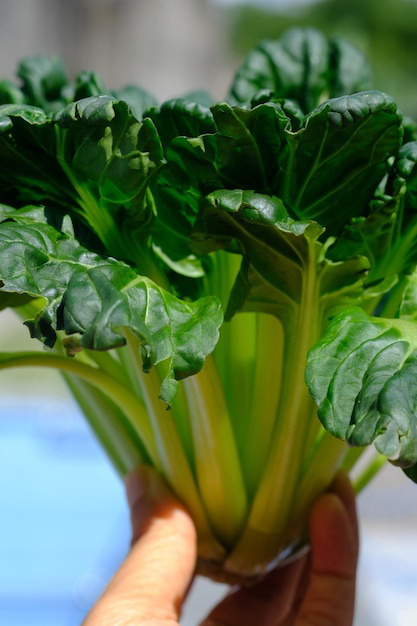Sawi: (25, 53, 384, 549)
